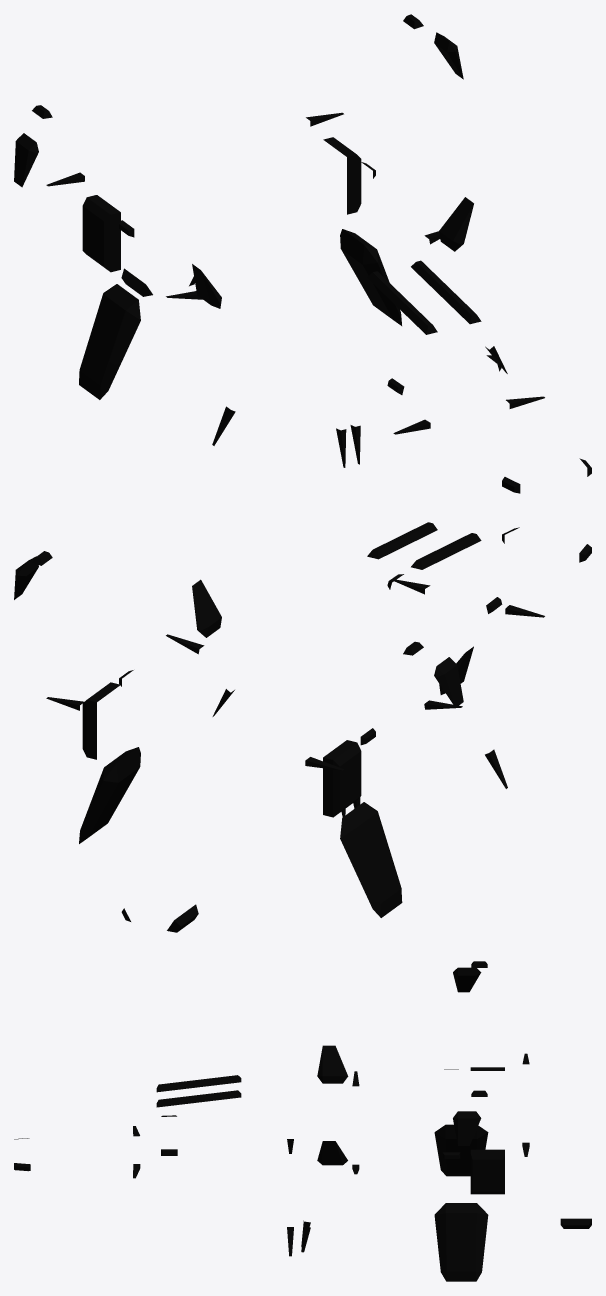
The model's file is tan_cf_assa_01_t1.glb.
The picture shows the model from 3 angles, top to bottom: view 1: azimuth 30°, elevation 25°; view 2: azimuth 150°, elevation 25°; view 3: azimuth 270°, elevation 25°; orthographic projection. The views are drawn at different scales.
Visible parts, largest first — view 1: tan_assault_fregate_01_t1_LOD0; view 2: tan_assault_fregate_01_t1_LOD0; view 3: tan_assault_fregate_01_t1_LOD0.
Boxes of the visible parts, x1=… form: tan_assault_fregate_01_t1_LOD0: x1=14, y1=14, x2=591, y2=493; tan_assault_fregate_01_t1_LOD0: x1=14, y1=522, x2=591, y2=932; tan_assault_fregate_01_t1_LOD0: x1=14, y1=961, x2=591, y2=1281.
Size of what is drawn, in the model's own units: 1.75 by 1.19 by 2.78.
1 material, 1 textured.
